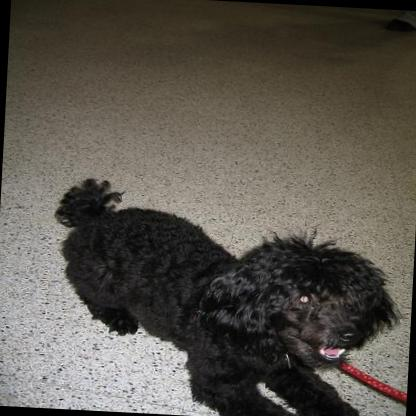toy_poodle: (41, 175, 402, 416)
